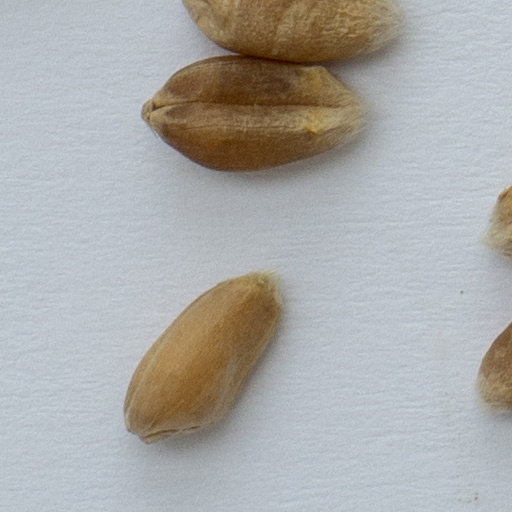Wheat-grain-poly: (120, 269, 285, 448), (138, 55, 373, 173), (178, 0, 400, 63), (477, 318, 511, 413), (476, 183, 511, 263)
